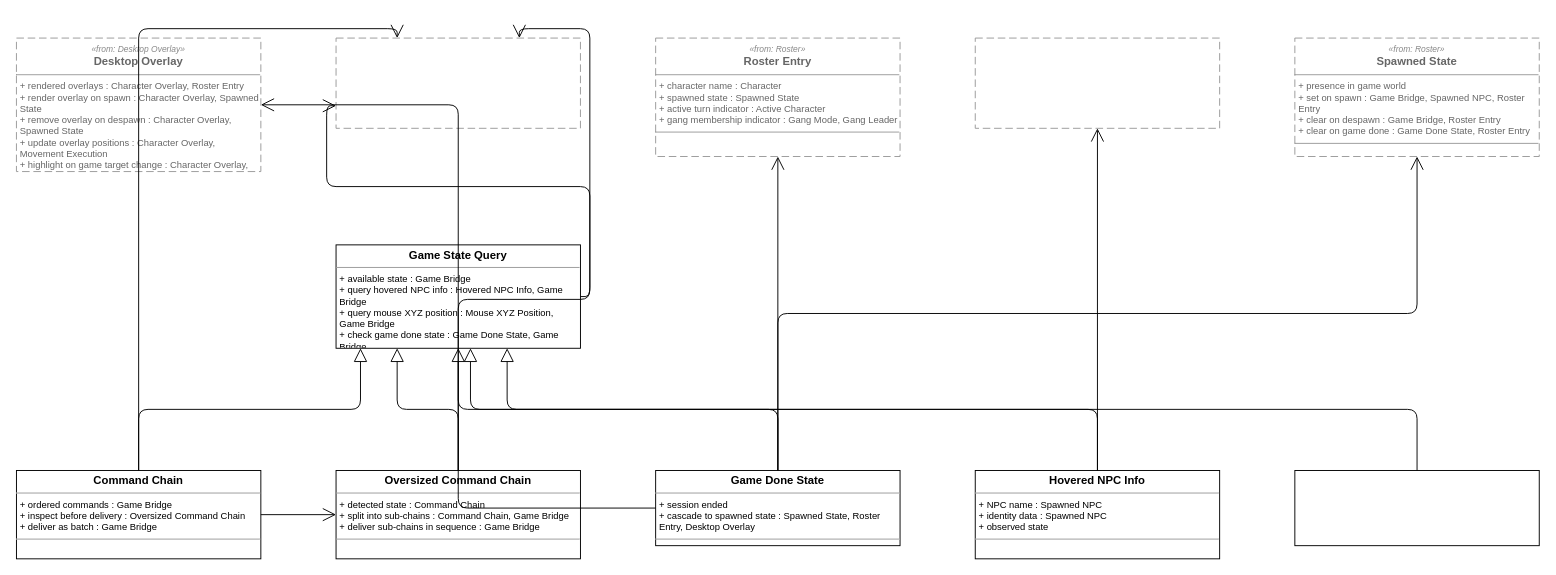
Some shapes in this 1556 by 575 pixel diagram are drawn without their labels. Here are the shapes that lost their labels. From the top down, the box of each, then its label:
(335, 37, 580, 128): «from: Game Bridge» Game Bridge
(974, 37, 1220, 128): «from: Spawned NPC» Spawned NPC
(1294, 470, 1539, 546): Mouse XYZ Position + world-space coordinates + focus validity
